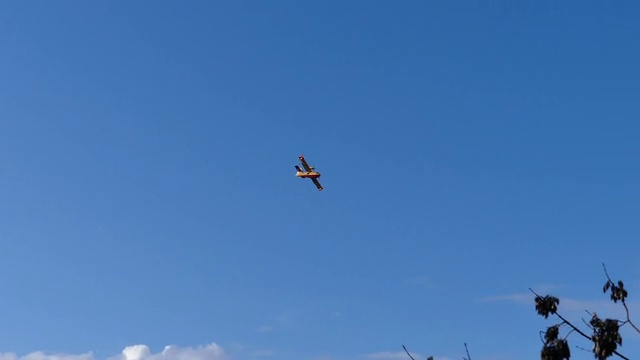plane: (294, 153, 325, 192)
